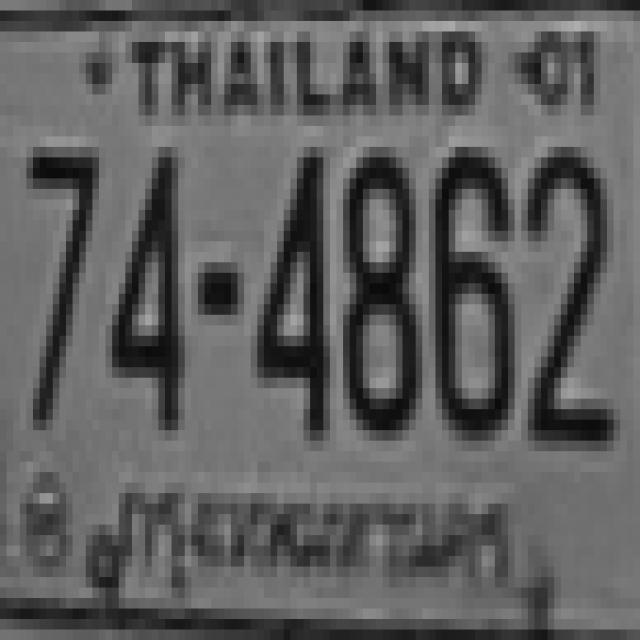2: (521, 142, 607, 436)
4: (106, 142, 178, 425), (251, 147, 323, 430)
6: (429, 147, 508, 430)
7: (23, 136, 96, 420)
8: (343, 147, 416, 430)
Bangkok: (100, 475, 524, 609)
